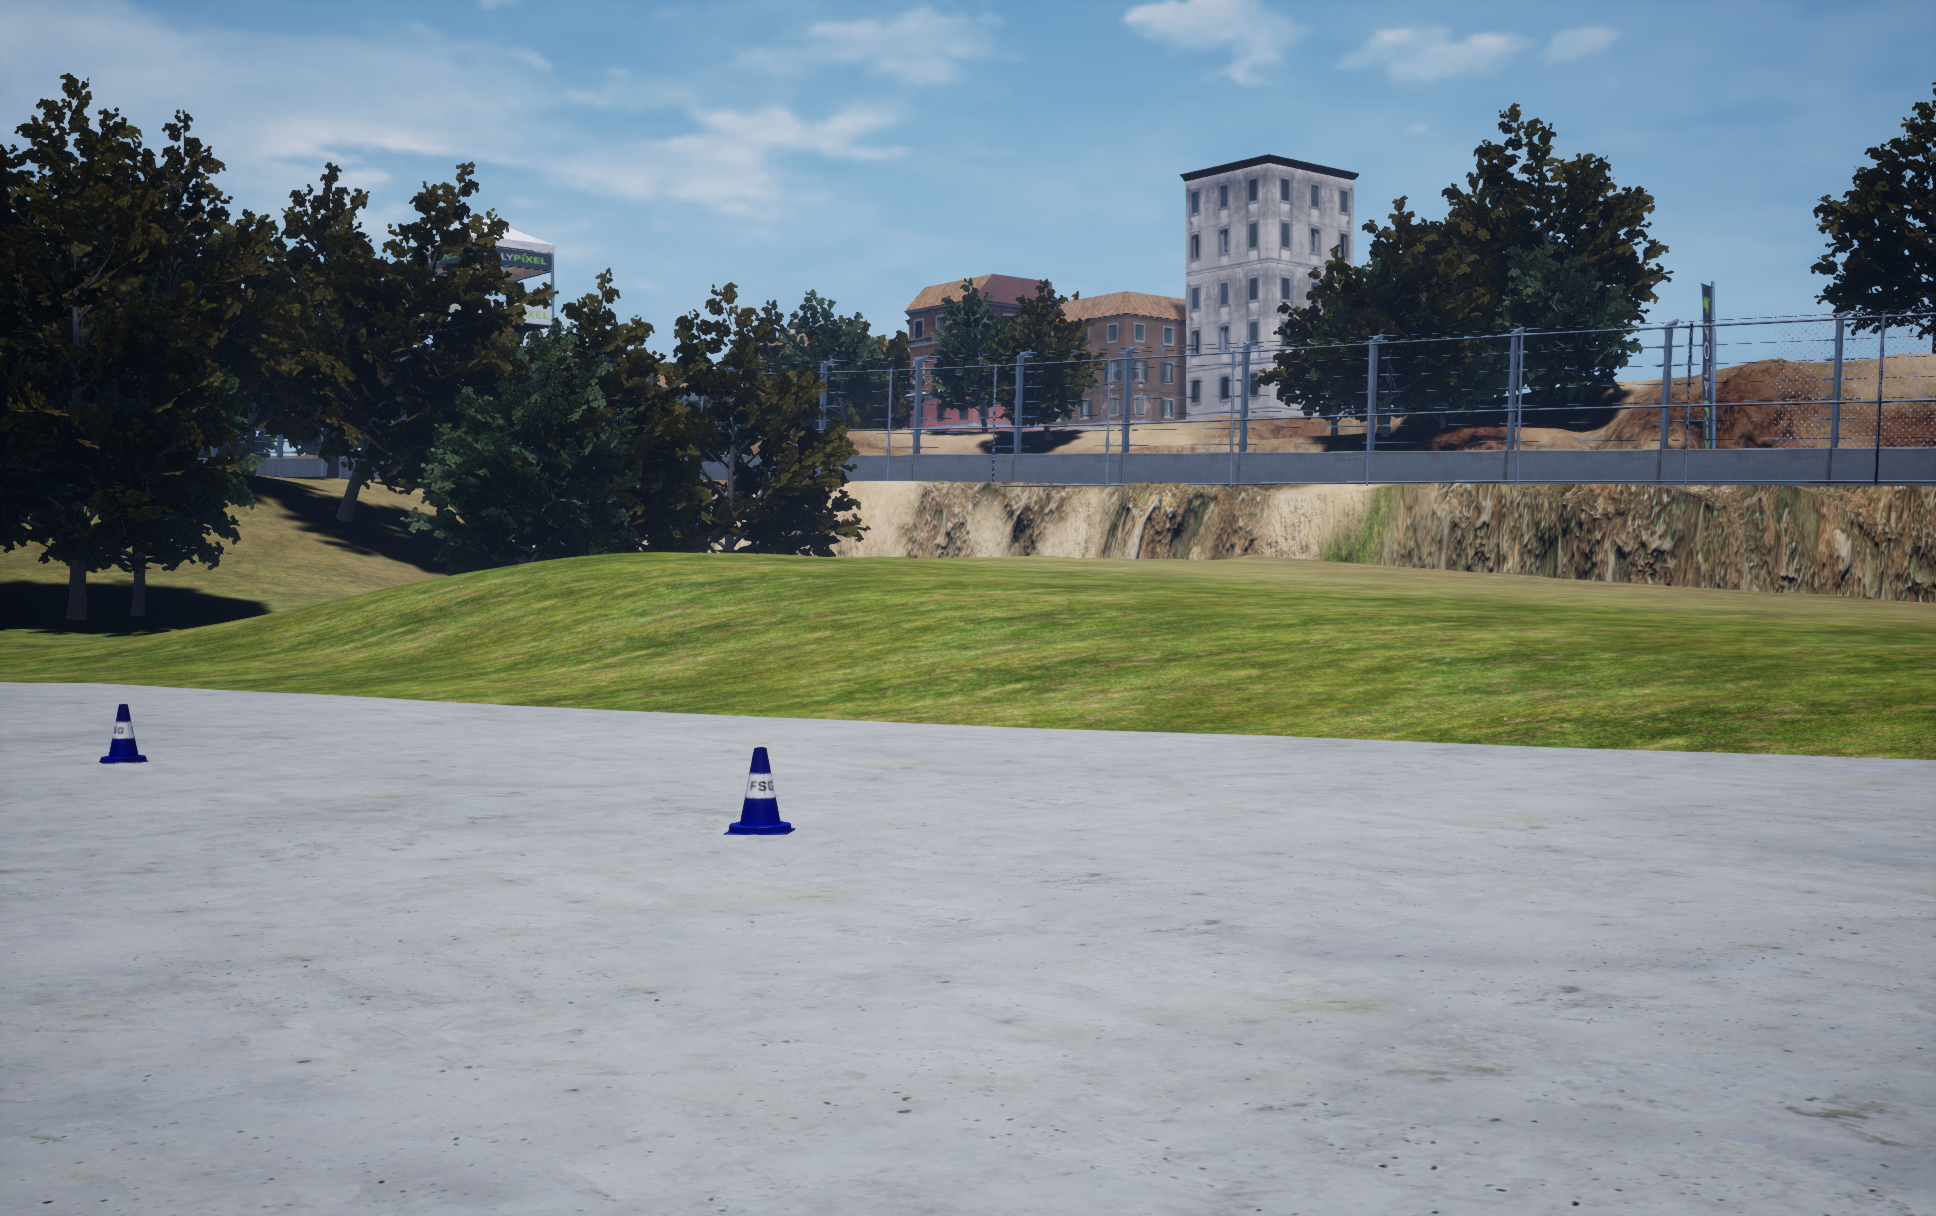yellow: (723, 747, 796, 834), (99, 705, 148, 764)
